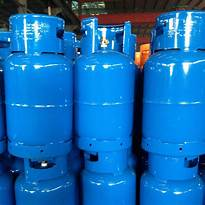blue_gas: (6, 14, 73, 159), (143, 12, 205, 153), (76, 17, 136, 151), (140, 153, 205, 205), (14, 157, 78, 205), (82, 149, 136, 205)
